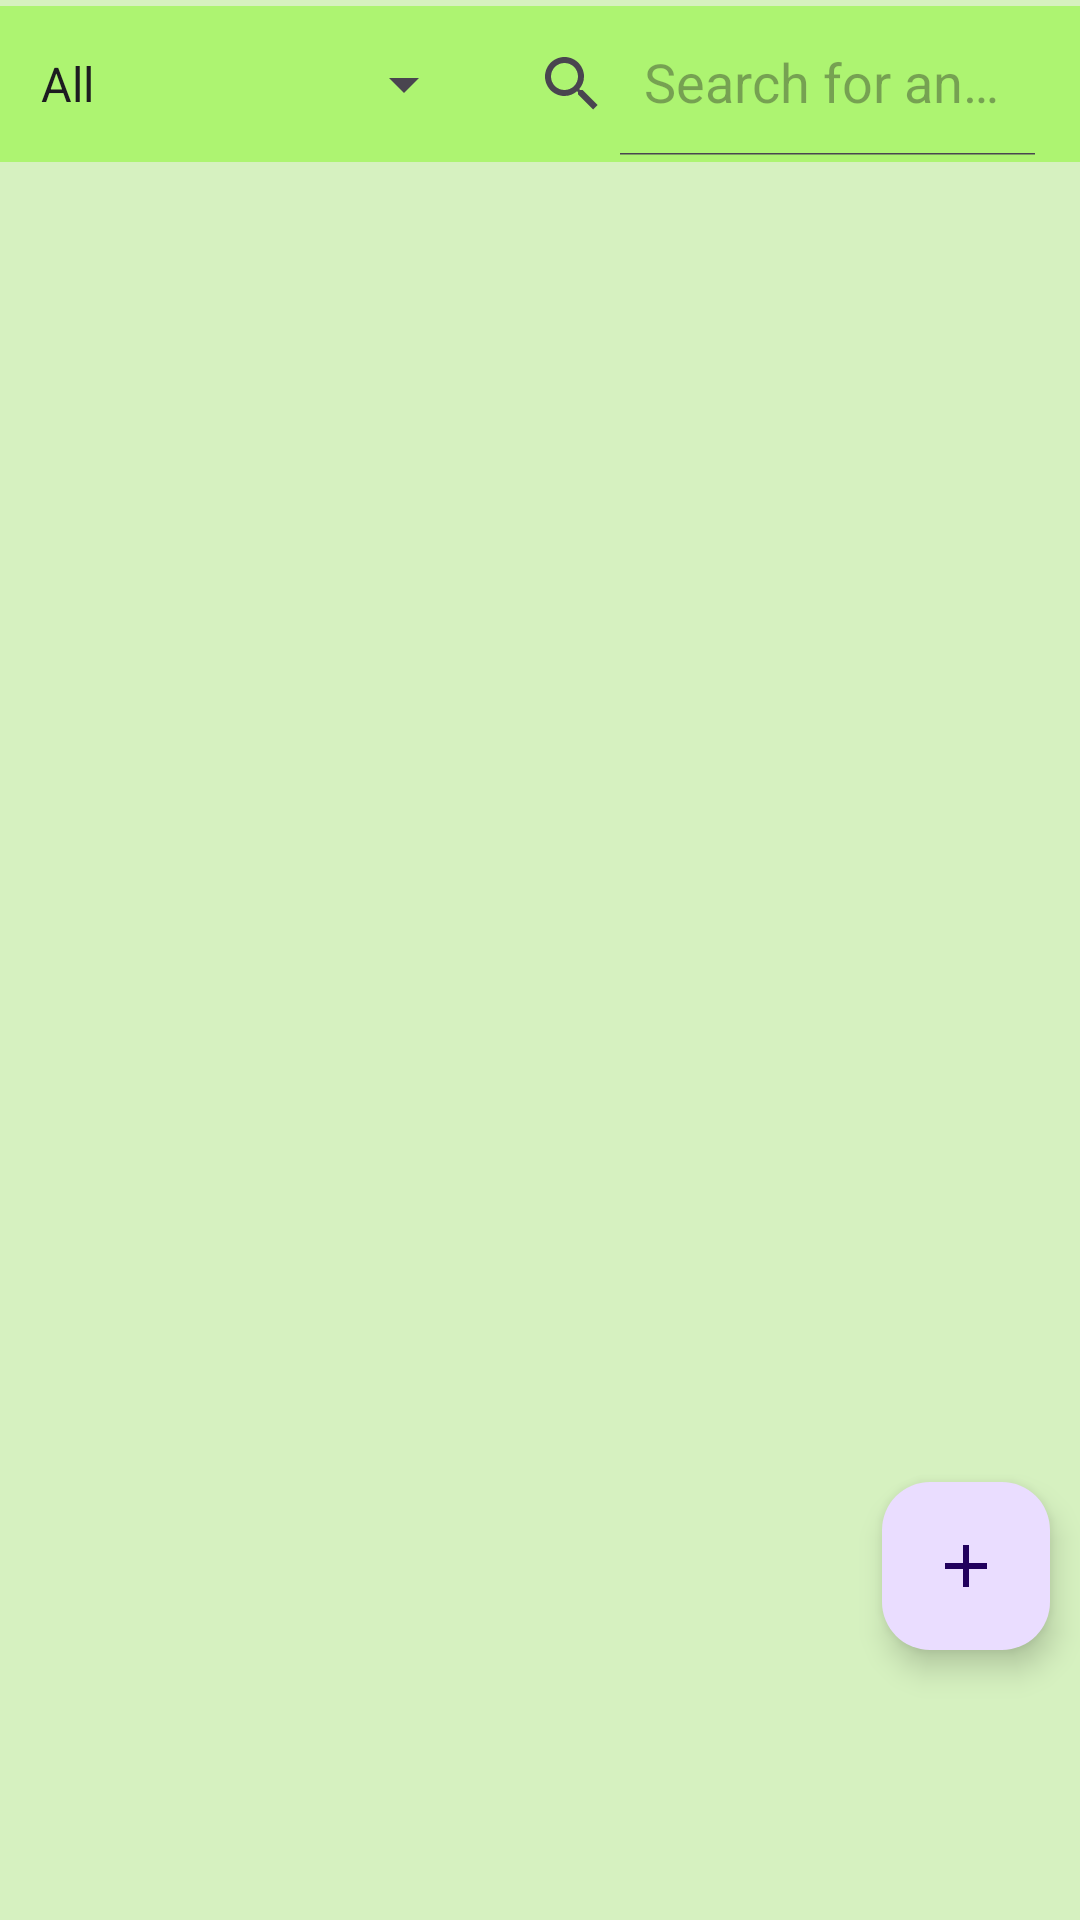

Locate icon controls on the screen. Image size 1080×1920, boxes as {"x1": x1, "y1": y1, "x2": x2, "y2": y2}.
add: {"x1": 882, "y1": 1482, "x2": 1050, "y2": 1650}
